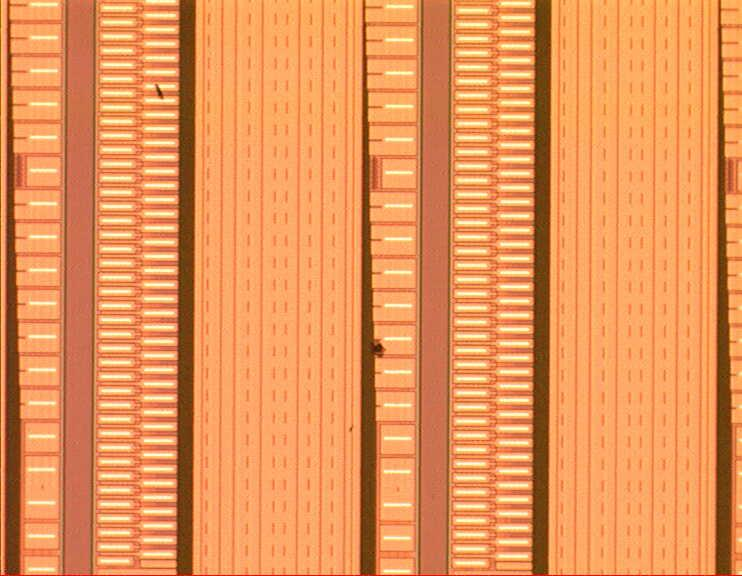PO CONTAMINATION: (146, 84, 392, 362)
